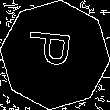P_E: (28, 34, 82, 76)
